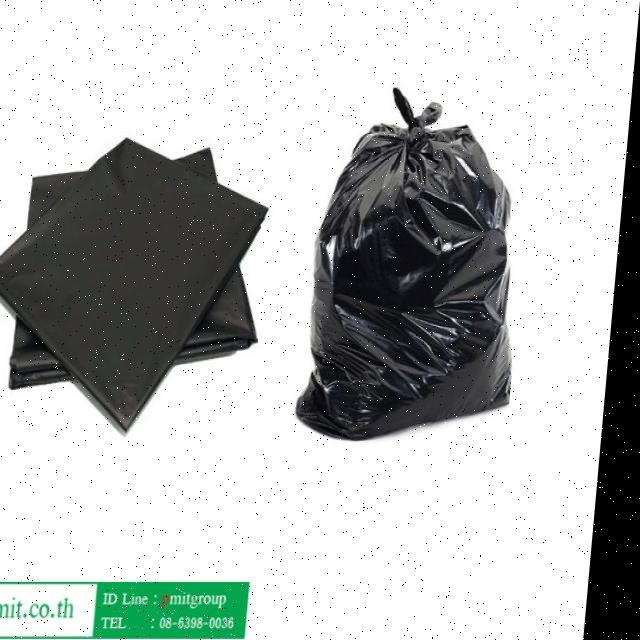black_plastic_bag: (288, 80, 551, 454)
